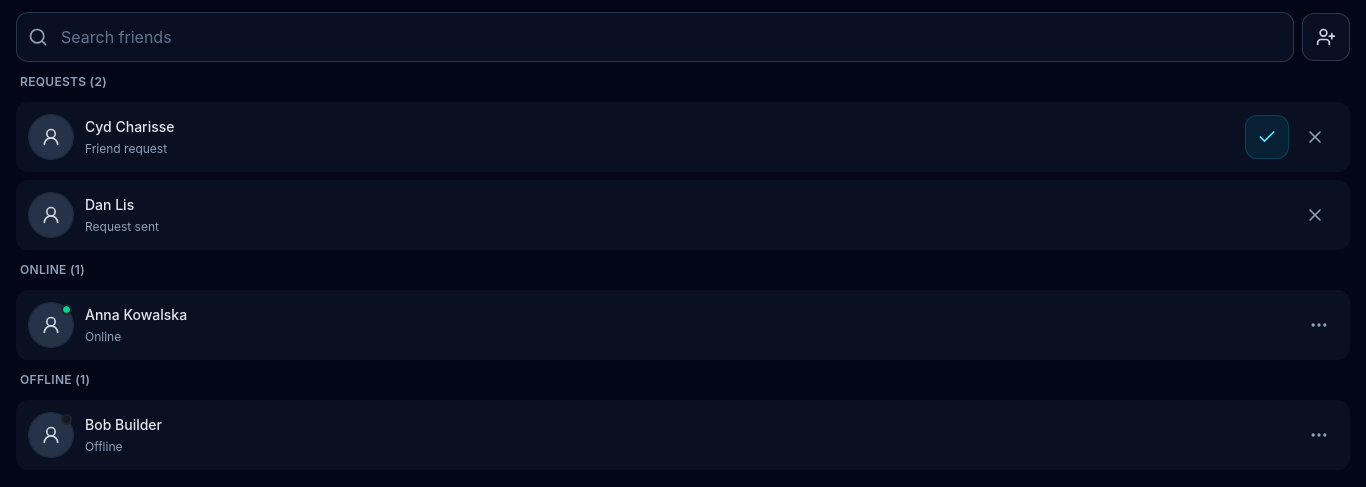
Test: Friends panel › filters friends and hides requests while searching
The image size is (1366, 487).
Type "kowal" into the search field labelled "Search friends" at [655, 37], box [16,12,1294,62]
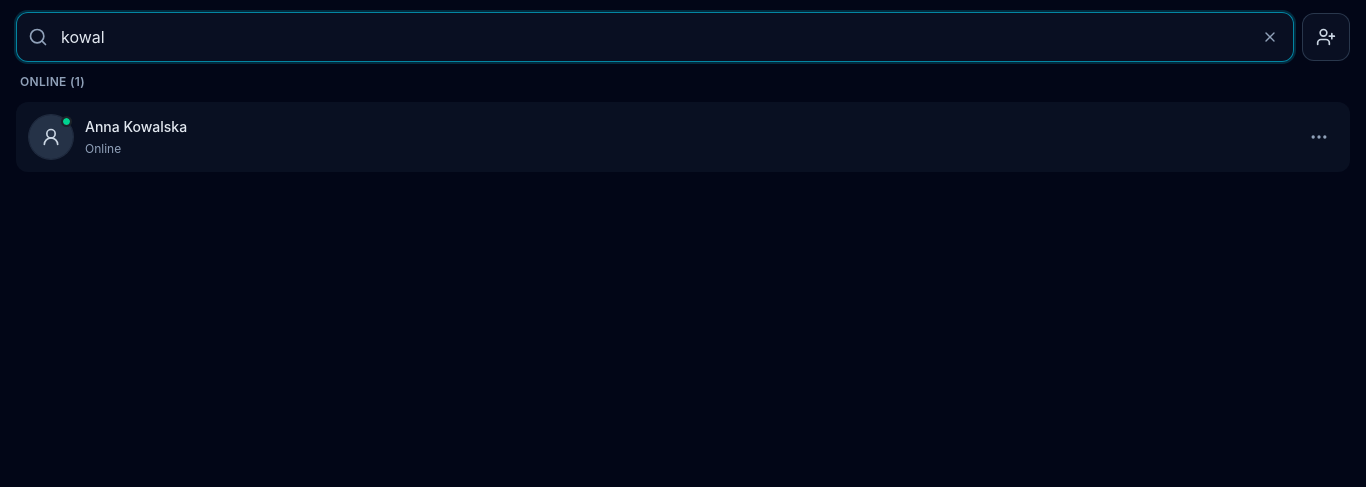
Expected: the text "Anna Kowalska" is shown, [85,118,187,135]
Expected: the button "Bob Builder" is gone
Type "zzz" into the search field named "Search friends" at [655, 37], box [16,12,1294,62]
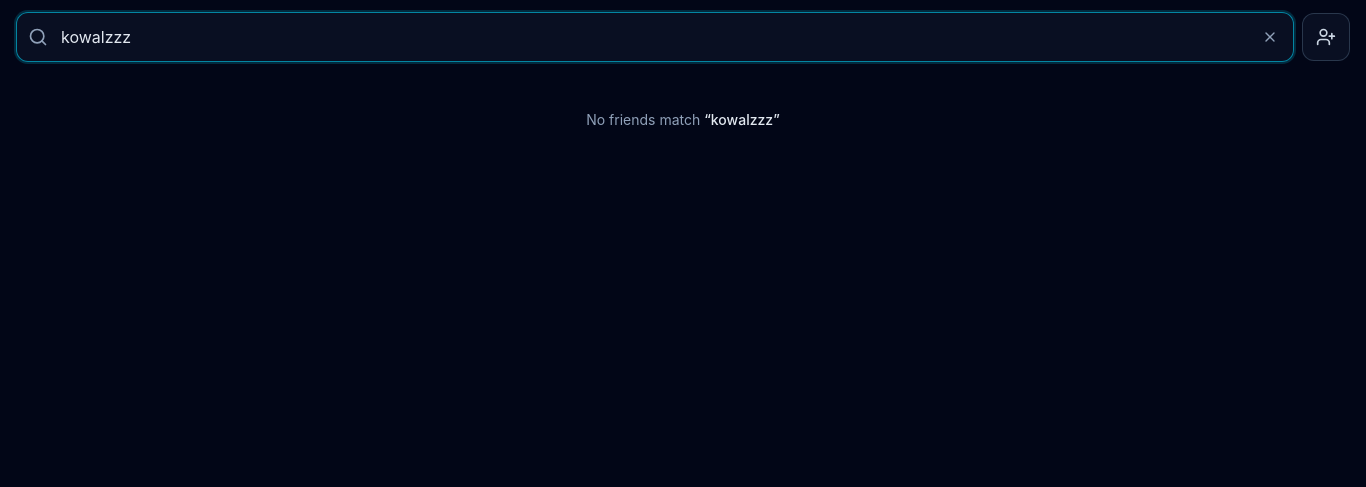
Expected: the message shows "No friends match", [586,111,704,128]
